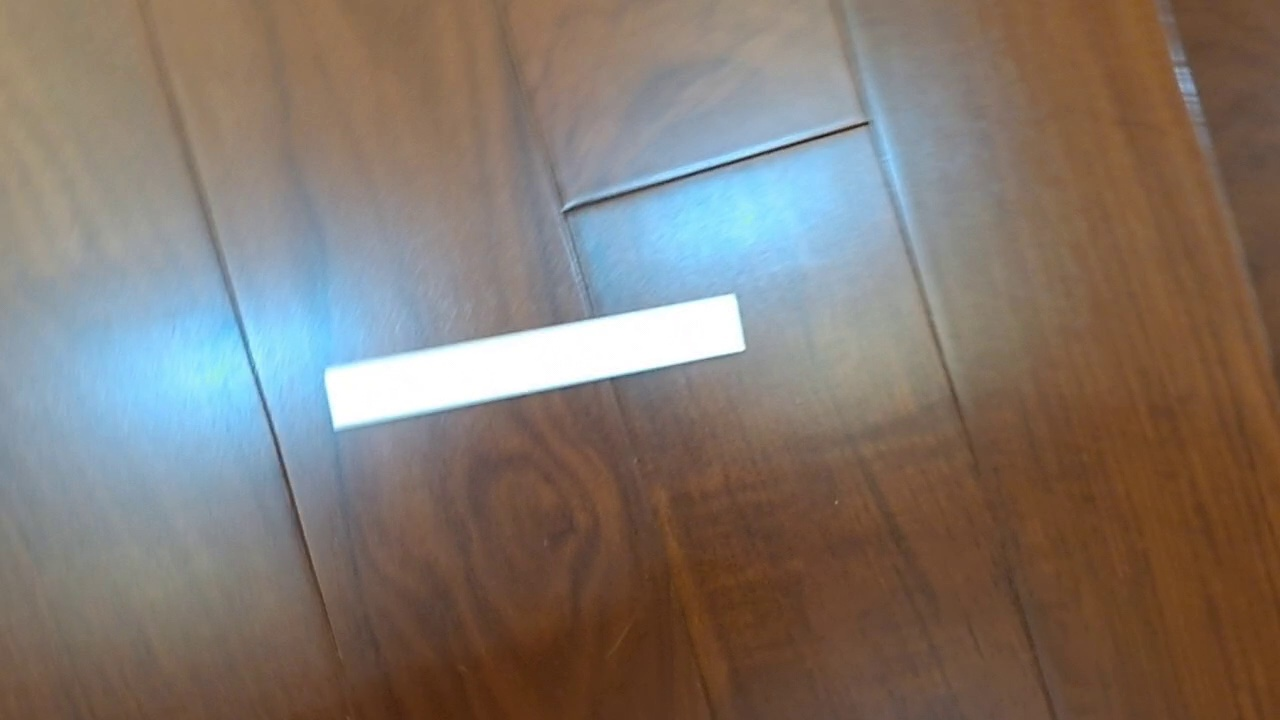ruler: (321, 293, 748, 433)
